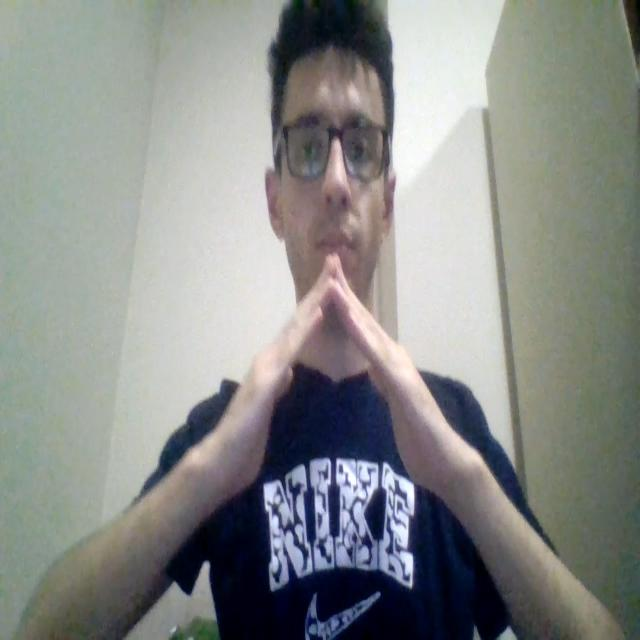house: (184, 257, 469, 508)
